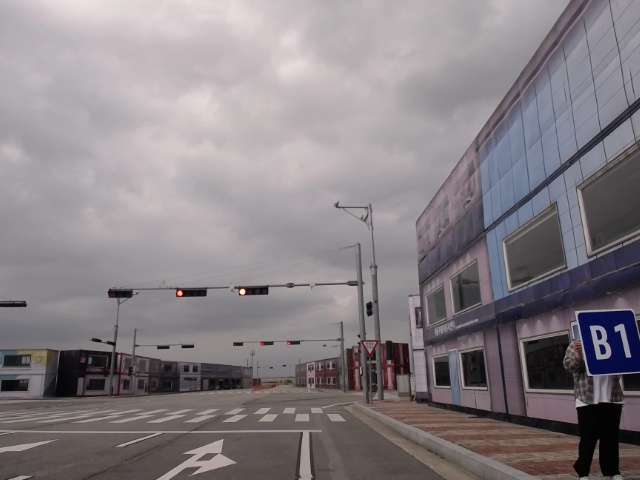delivery_b1: (576, 309, 639, 376)
red_4: (176, 289, 207, 297), (239, 287, 268, 295), (260, 341, 274, 345), (288, 341, 300, 344)
